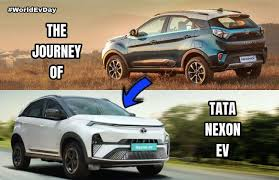Tata Nexon: (8, 93, 172, 175), (102, 7, 268, 85)
